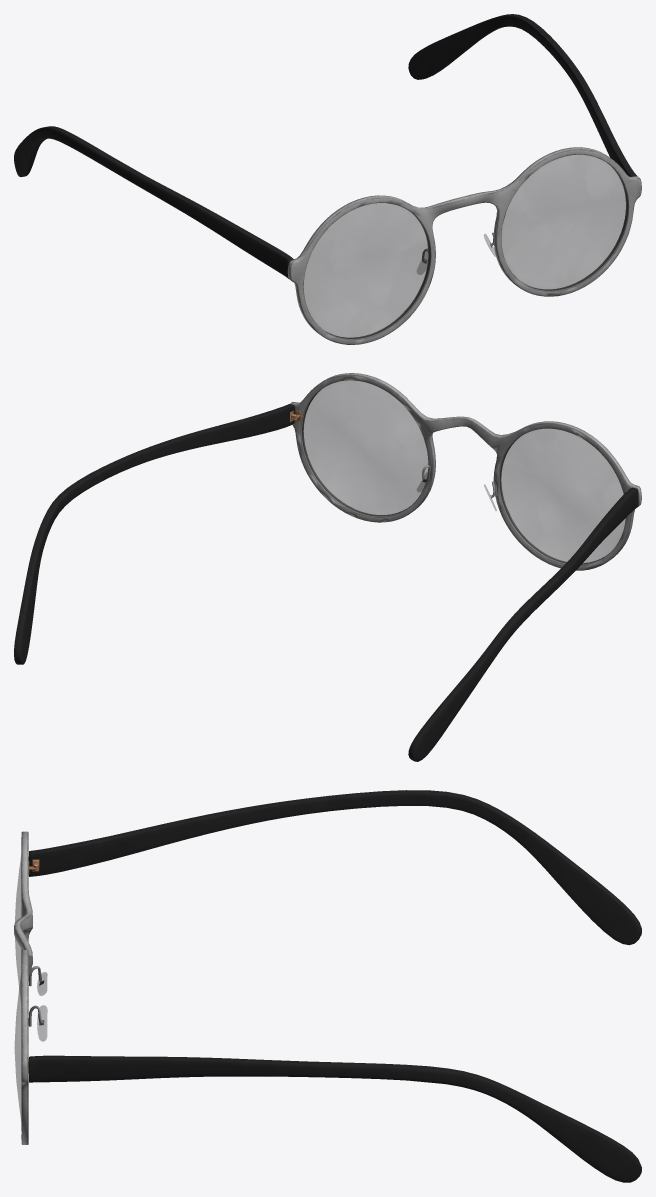
Rendered from round_spectacles.4139af2d.glb.
The picture shows the model from 3 angles, top to bottom: view 1: azimuth 30°, elevation 25°; view 2: azimuth 150°, elevation 25°; view 3: azimuth 270°, elevation 25°; orthographic projection. The views are drawn at different scales.
Parts seen in each view (by area): view 1: round_spectacles; view 2: round_spectacles; view 3: round_spectacles.
Boxes of the visible parts, <box> form: round_spectacles: <box>14,14,641,344</box>; round_spectacles: <box>14,373,641,761</box>; round_spectacles: <box>14,790,641,1182</box>.
Bounding box in the file's own units: 0.7624 × 0.2235 × 0.72.
2 materials, 2 textured.
